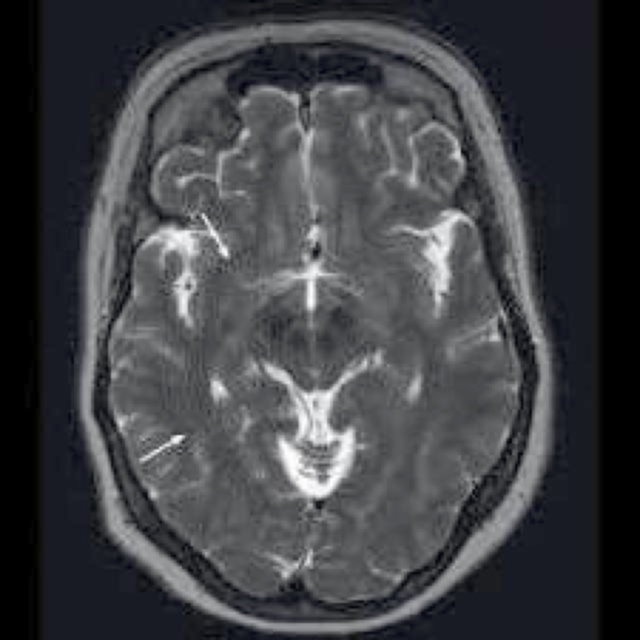glioma tumor: (145, 74, 478, 540)
